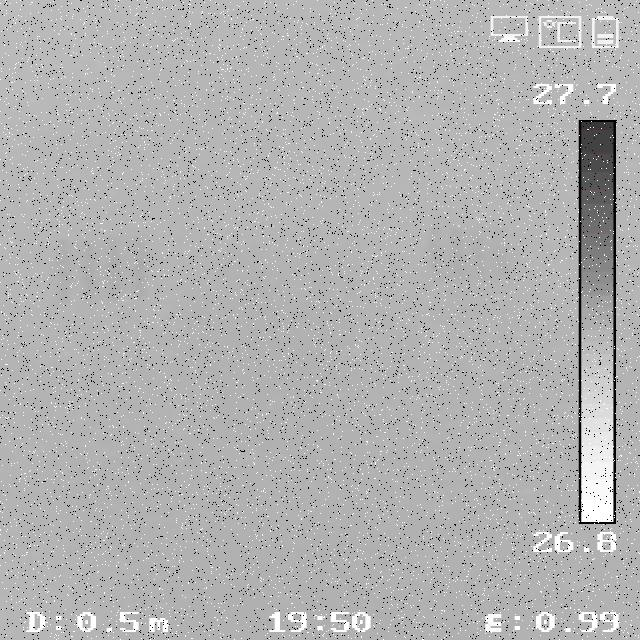threshold 4-bar target: (49, 236, 150, 303), (424, 218, 509, 274)
